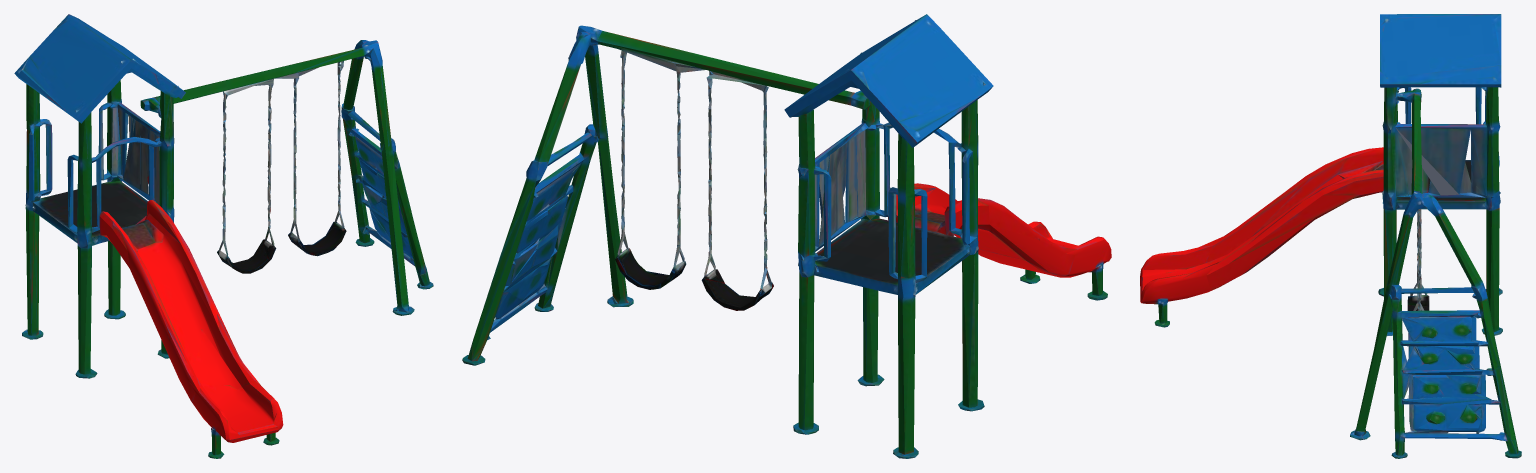
The model's file is prop_playground.glb.
3 views of the same model, side by side, from view 1: azimuth 30°, elevation 25°; view 2: azimuth 150°, elevation 25°; view 3: azimuth 270°, elevation 25° (orthographic). The views are drawn at different scales.
Parts seen in each view (by area): view 1: Mesh_0; view 2: Mesh_0; view 3: Mesh_0.
Boxes of the visible parts, x1=… form: Mesh_0: x1=14, y1=14, x2=433, y2=458; Mesh_0: x1=462, y1=14, x2=1111, y2=458; Mesh_0: x1=1140, y1=14, x2=1521, y2=458.
Size of the model in its own units: 1.9 by 1.53 by 1.77.
1 material, 1 textured.
